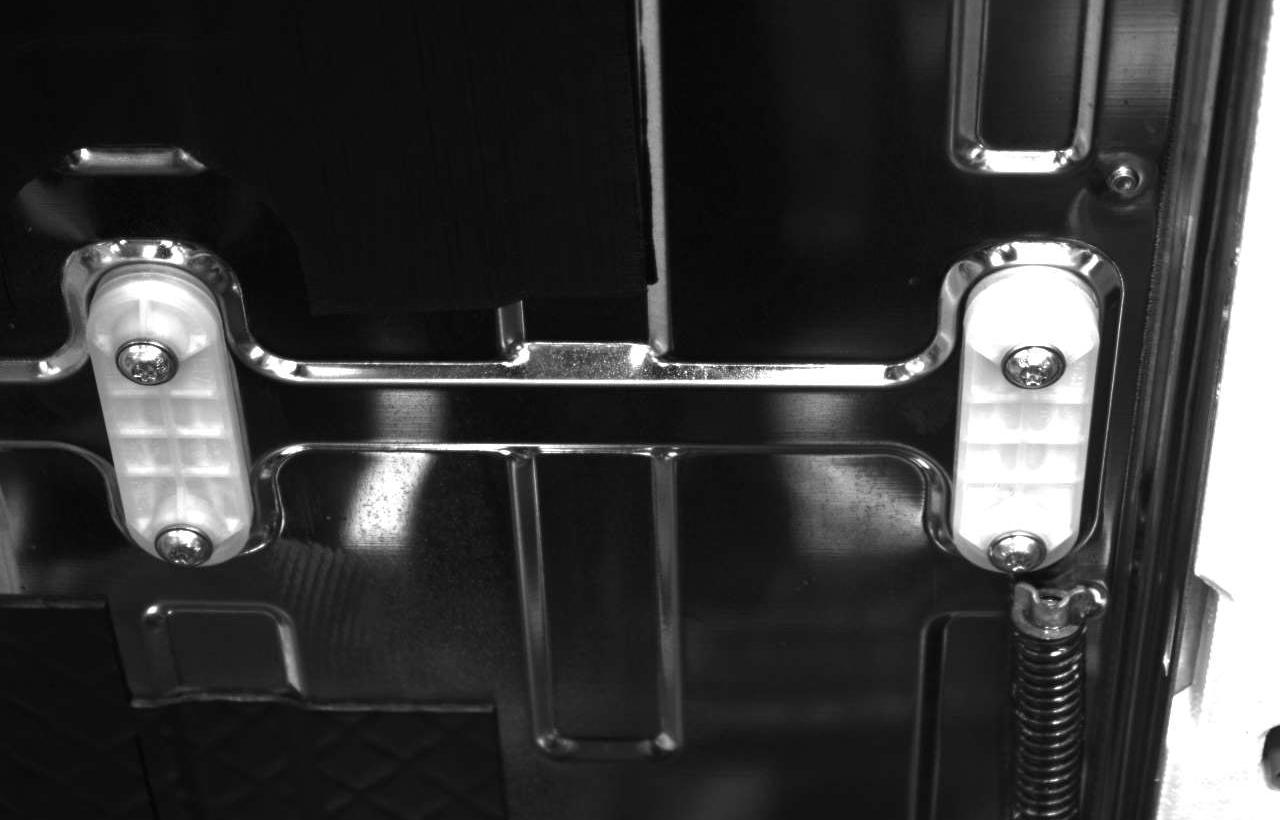vida-ok: (113, 331, 184, 398), (1001, 334, 1069, 401), (150, 519, 216, 578), (984, 524, 1050, 582)
